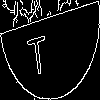T: (25, 25, 49, 77)
